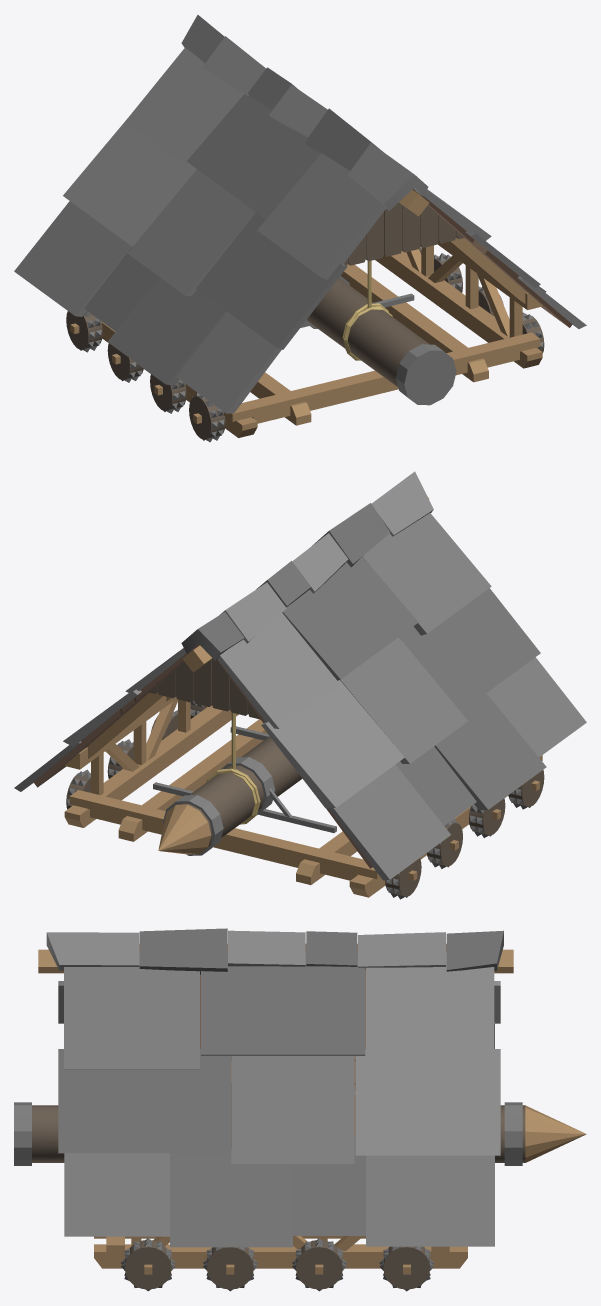
The model's file is siege_ram.glb.
3 renders of one model, top to bottom at view 1: azimuth 30°, elevation 25°; view 2: azimuth 150°, elevation 25°; view 3: azimuth 270°, elevation 25°, orthographic. The views are drawn at different scales.
Parts seen in each view (by area): view 1: pCylinder355; view 2: pCylinder355; view 3: pCylinder355.
Boxes of the visible parts, x1,y1,x2,y2 form: pCylinder355: (14,15,586,442); pCylinder355: (14,471,586,899); pCylinder355: (14,928,586,1291).
Bounding box in the file's own units: 7.36 × 4.9 × 9.11.
Materials: 7 (1 with a texture image).
